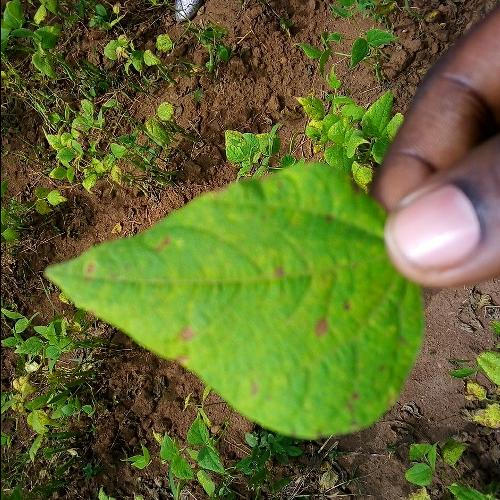hawar: (80, 192, 455, 410)
